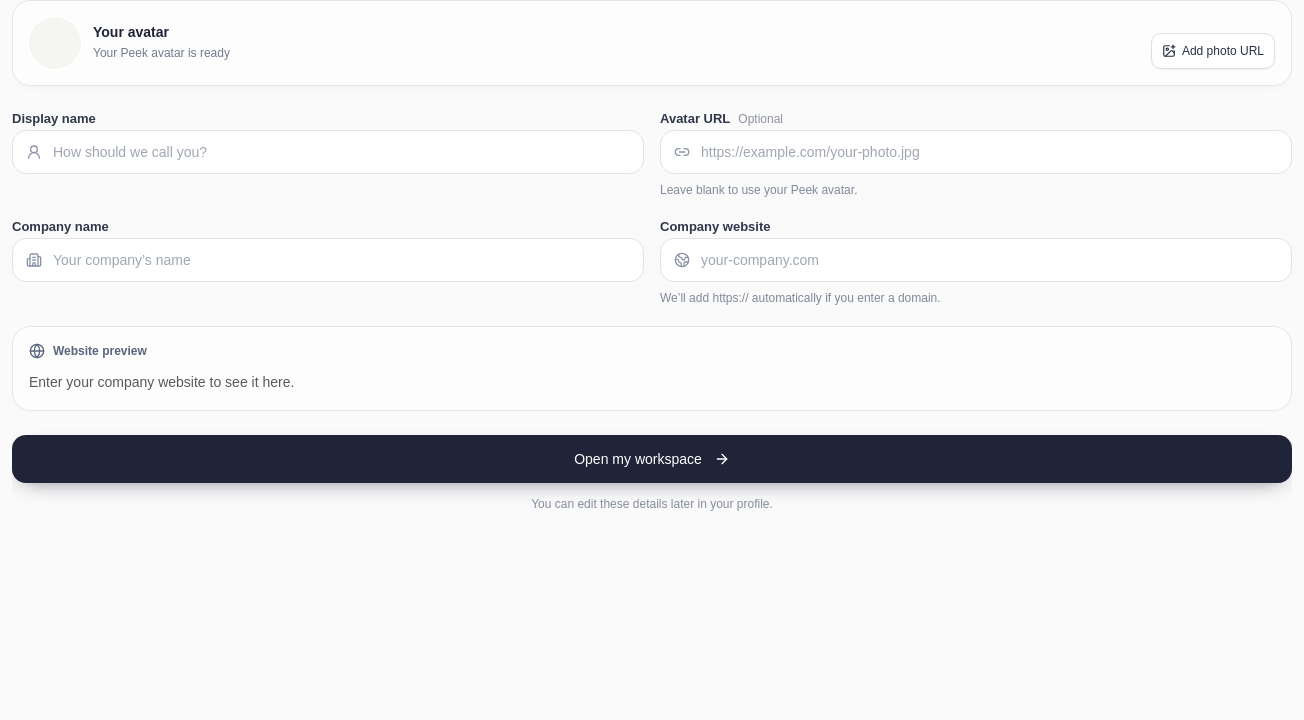
Test: onboarding metadata › recruiter cannot submit until website is supplied
Type "Alex" into the field labelled "Display name" at (328, 152), box left=12, top=130, right=644, bottom=174
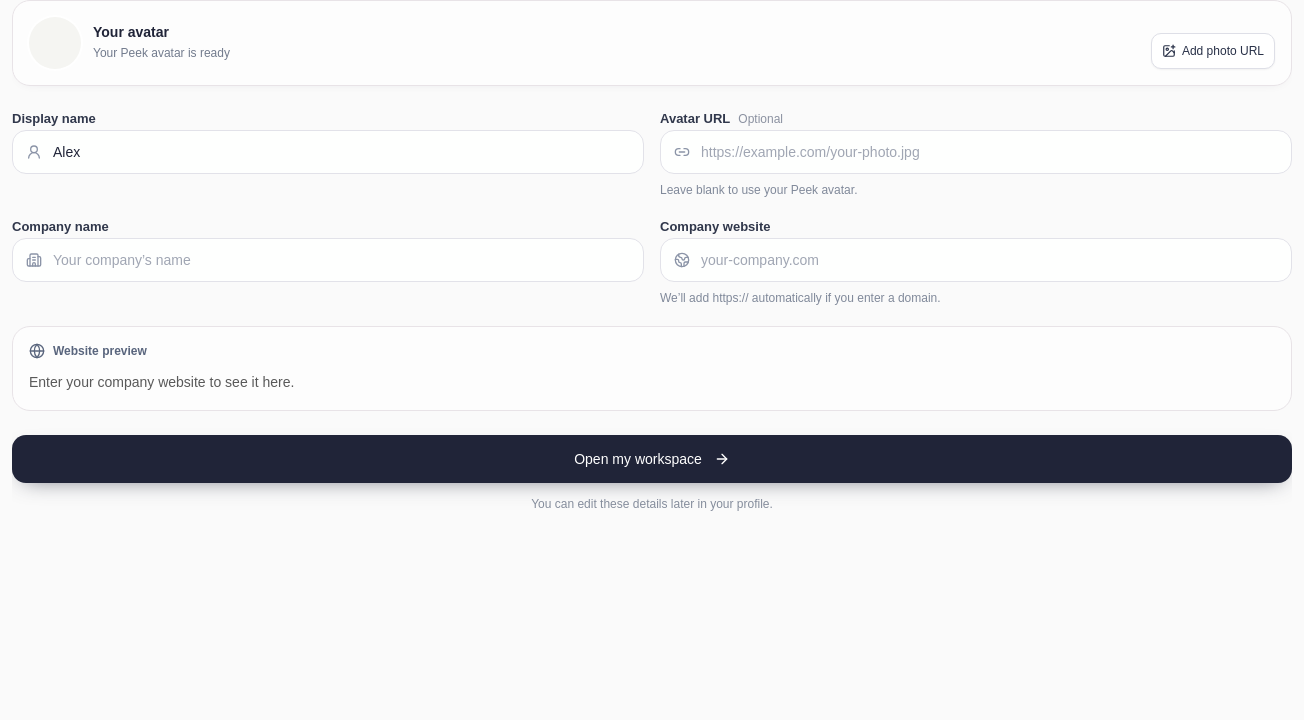
Type "Acme" into the field labelled "Company name" at (328, 260), box left=12, top=238, right=644, bottom=282
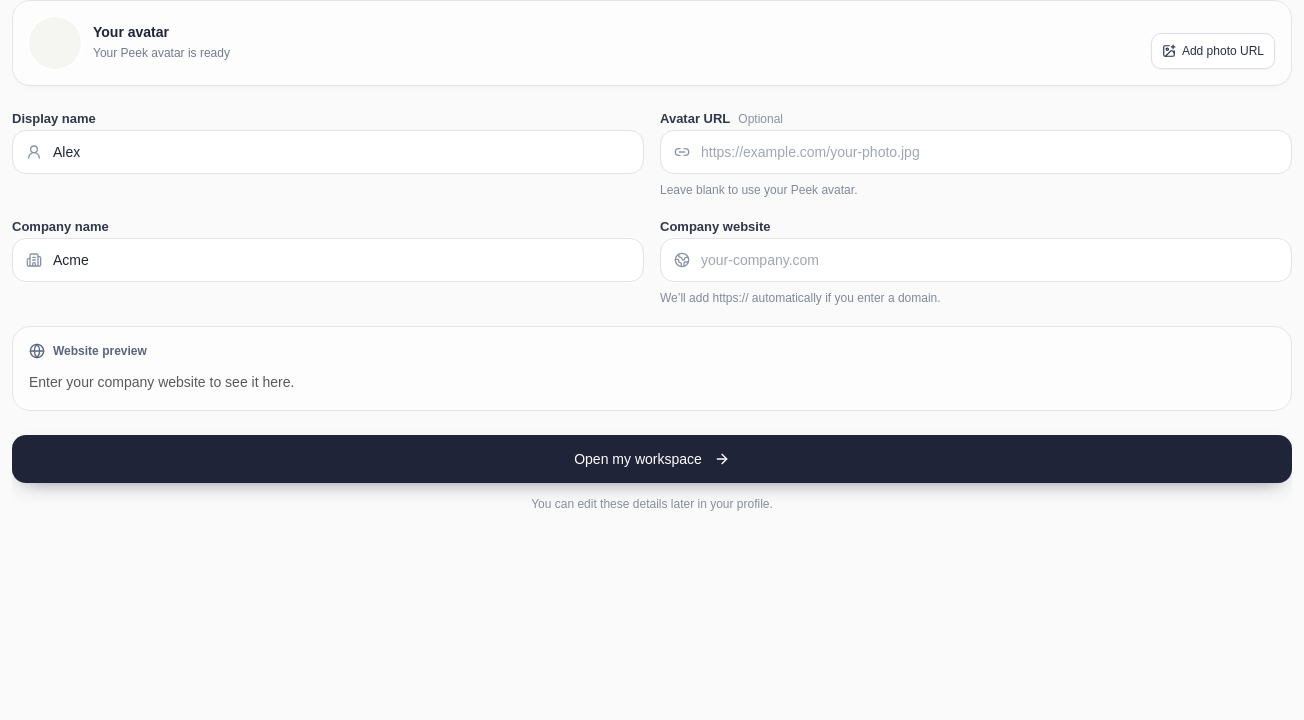
Click the button "Open my workspace" at (652, 459), box left=12, top=435, right=1292, bottom=483
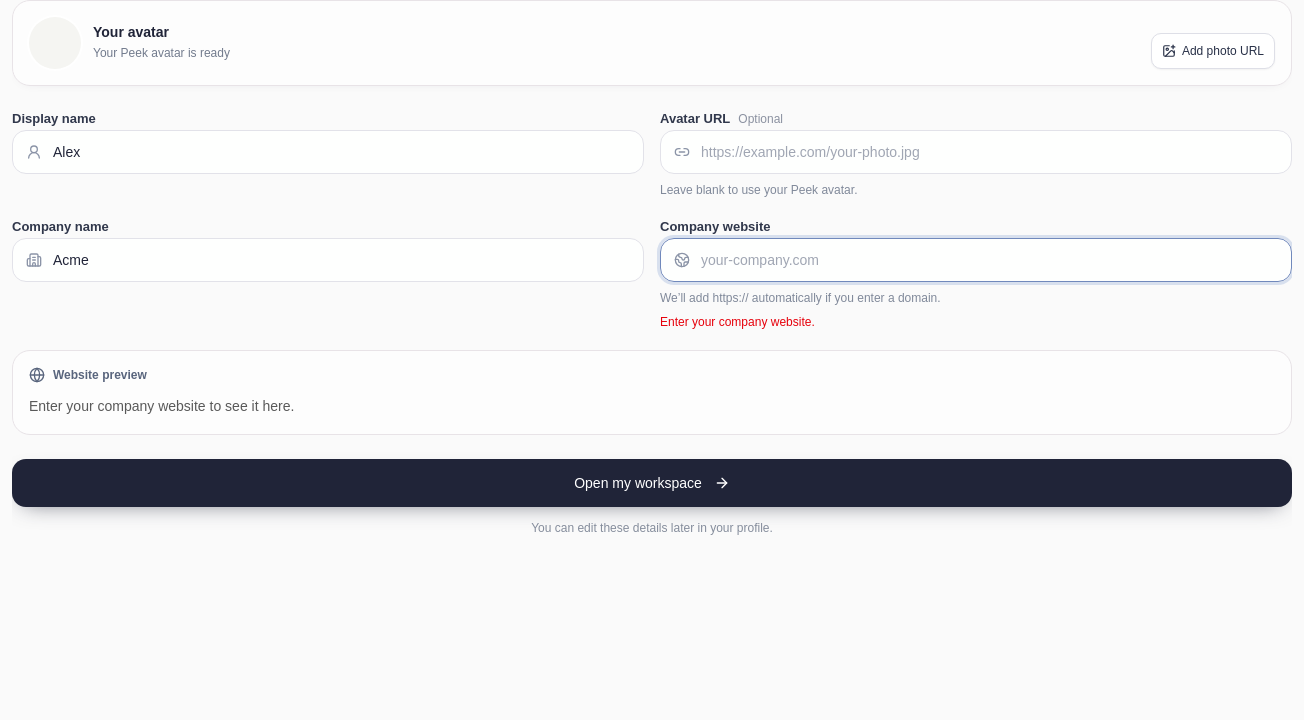
Now the text "Enter your company website." is shown, box left=660, top=315, right=815, bottom=329
